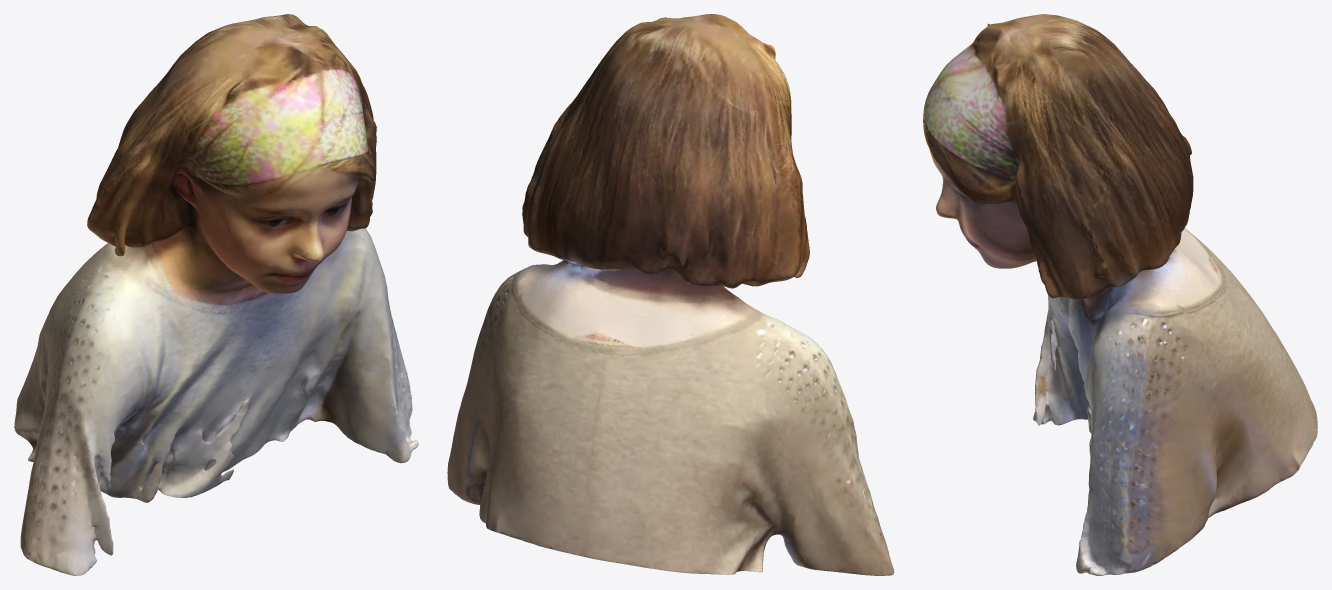
File: 真人头像_女_儿童_opt.glb
The picture shows the model from 3 angles, left to right: view 1: azimuth 30°, elevation 25°; view 2: azimuth 150°, elevation 25°; view 3: azimuth 270°, elevation 25°; orthographic projection. The views are drawn at different scales.
Visible parts, largest first — view 1: material_0, material_0_1; view 2: material_0, material_0_1; view 3: material_0, material_0_1.
Part boxes in pixels (x1,y1,x2,y2): material_0: (14,14,418,575); material_0_1: (16,17,417,575); material_0: (447,14,894,575); material_0_1: (448,14,892,575); material_0: (923,14,1317,575); material_0_1: (924,18,1315,575).
Size of the model in its own units: 0.2602 by 0.3 by 0.2222.
1 material, 1 textured.
